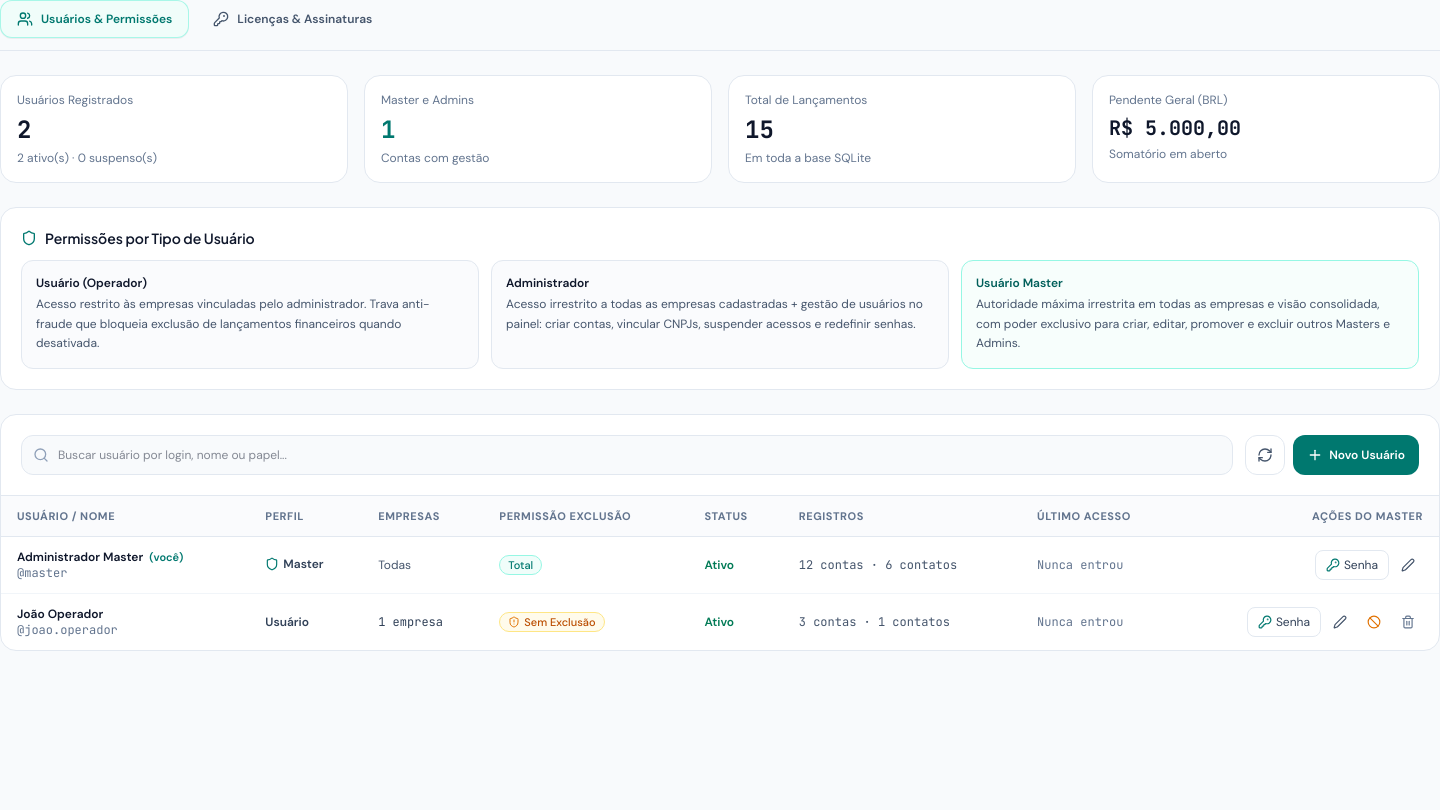
Test: AdminView — Fase 9.3 (Permissões por Empresa, Trava de Exclusão e Modais) › 1. Deve exibir mensagem de erro de validação diretamente DENTRO do modal de criação
Expected: the text "Administrador Master" is shown, [17,549,143,565]
Note: Abrir modal de criação
Click the button "Novo Usuário".
click(1356, 454)  # box [1293,434,1419,474]
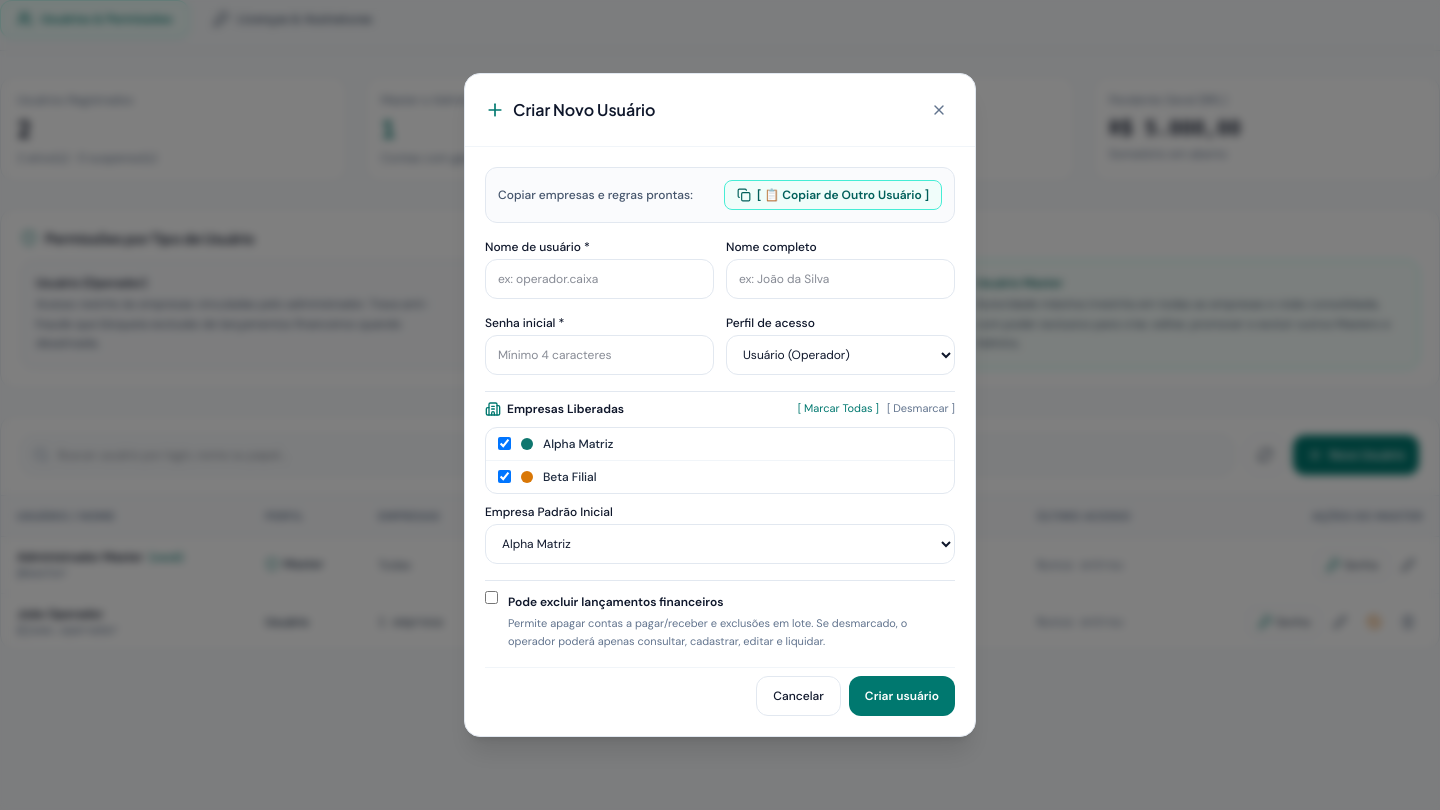
Result: the heading "Criar Novo Usuário" is shown at [513,98,655,122]
Note: Digitar login inválido com espaços
Type "login invalido com espaco" into the field with placeholder "ex: operador.caixa".
click(600, 279); type("login invalido com espaco")  # box [485,259,714,299]
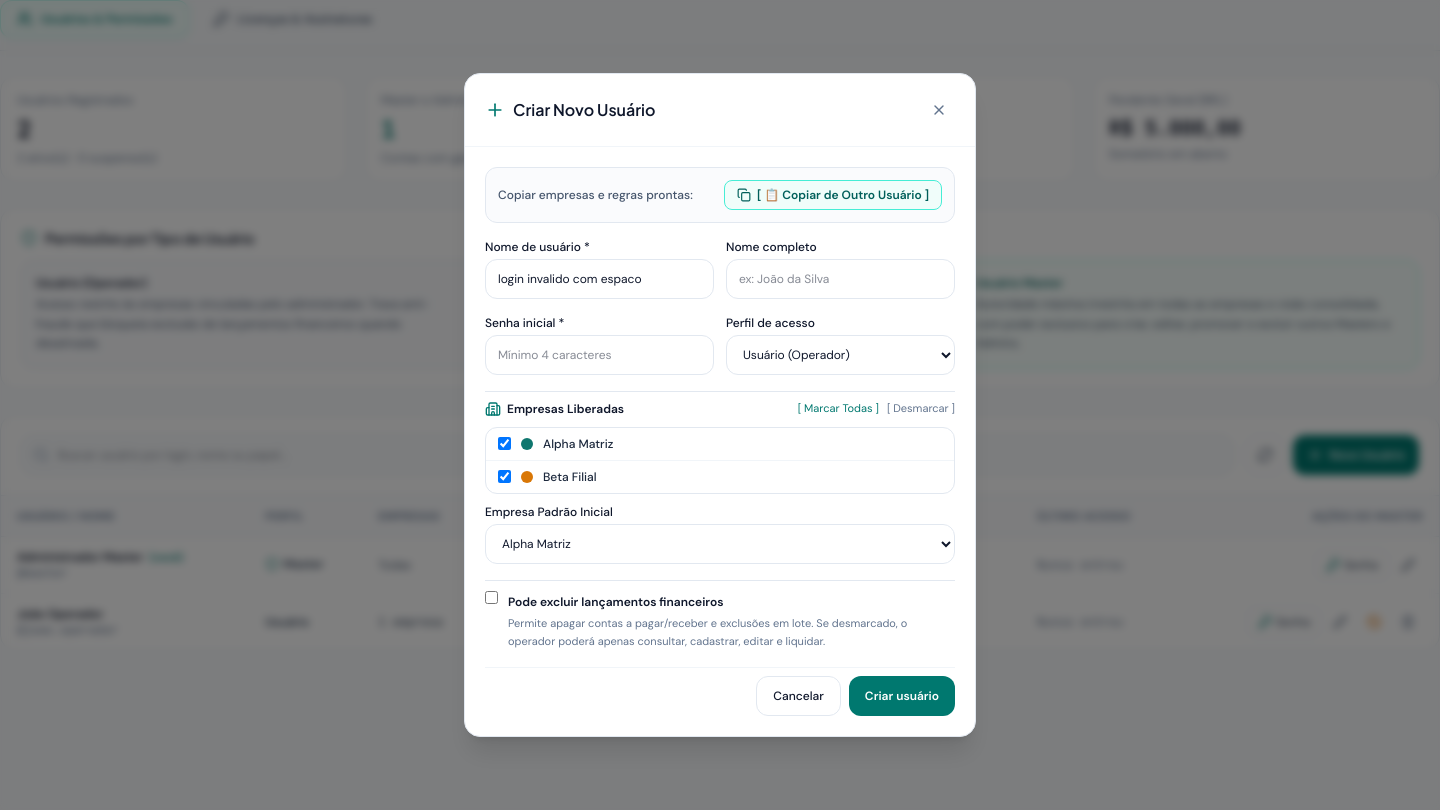
Note: Submeter formulário
Click the button "Criar usuário".
click(902, 696)  # box [849,676,955,716]
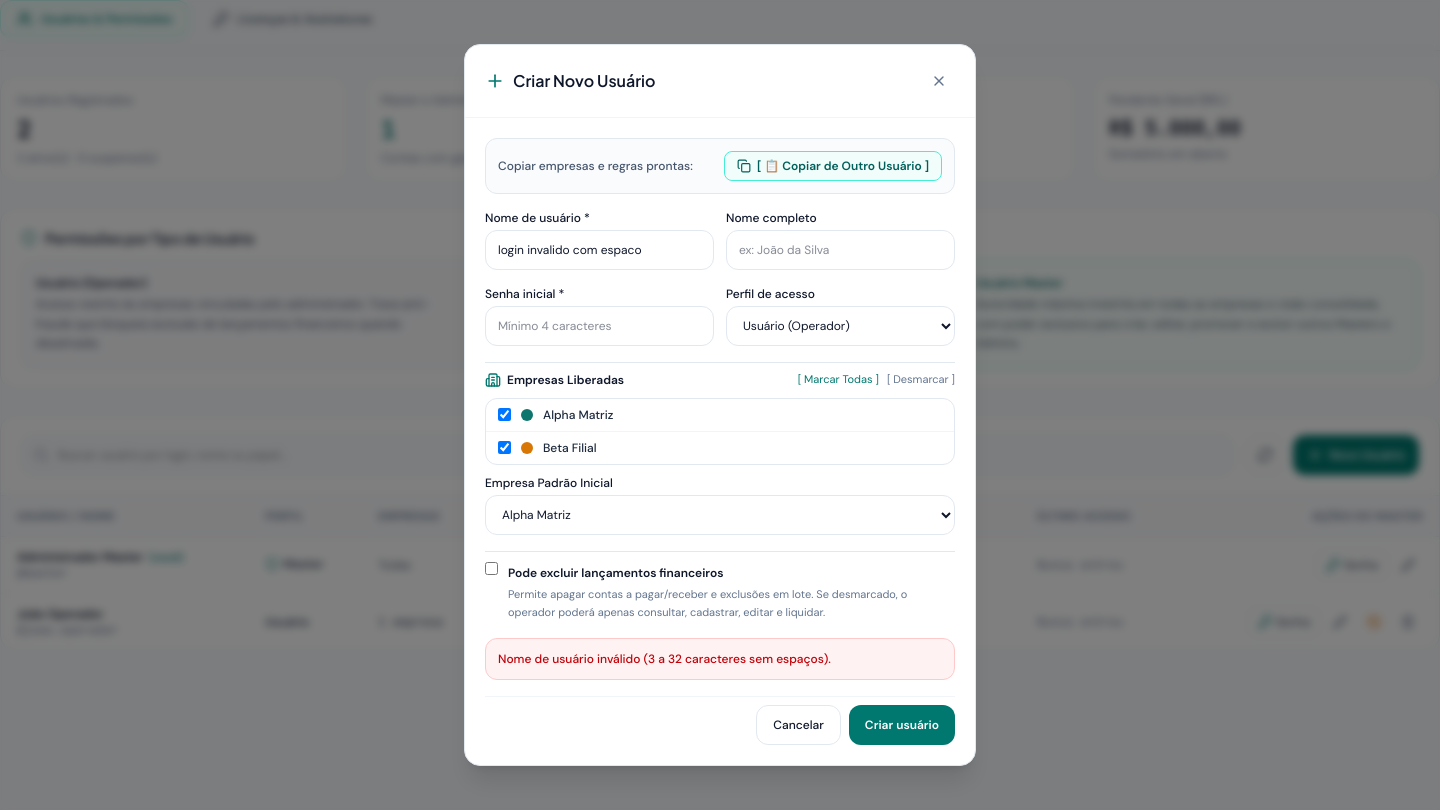
Result: the text "Nome de usuário inválido (3 a 32 caracteres sem espaços)." is shown at [485,638,955,680]
